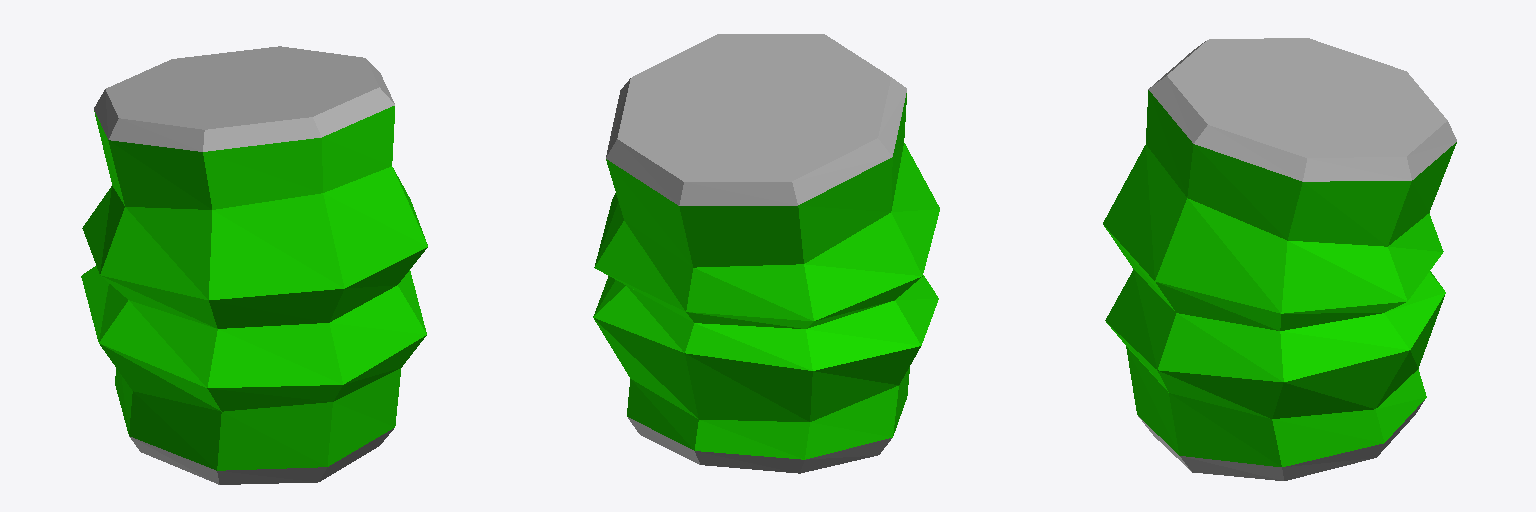
3 renders of one model, left to right at view 1: azimuth 30°, elevation 25°; view 2: azimuth 150°, elevation 25°; view 3: azimuth 270°, elevation 25°, orthographic.
Parts seen in each view (by area): view 1: Cylinder; view 2: Cylinder; view 3: Cylinder.
Part boxes in pixels (left/top/right/bottom): Cylinder: left=81, top=46, right=427, bottom=484; Cylinder: left=593, top=34, right=939, bottom=473; Cylinder: left=1103, top=38, right=1456, bottom=480.
Bounding box in the file's own units: 2.2 × 2.44 × 2.18.
Materials: 1 (1 with a texture image).